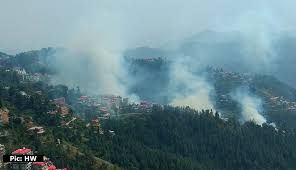smoke: (67, 48, 128, 94), (242, 19, 276, 74), (175, 69, 215, 111), (234, 91, 268, 124)
